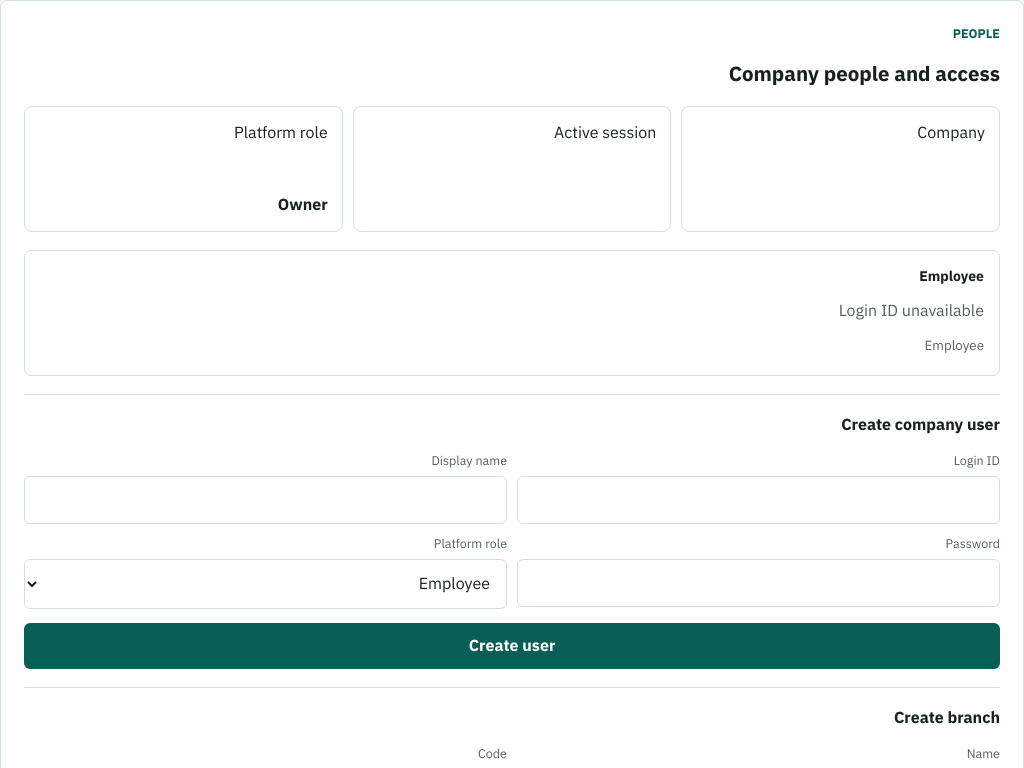
Test: Create user distinguishes write outcome from refresh (write_failed)
Type "Example-2026!" into the field labelled "Login ID" at (758, 500), box [517,476,1000,524]
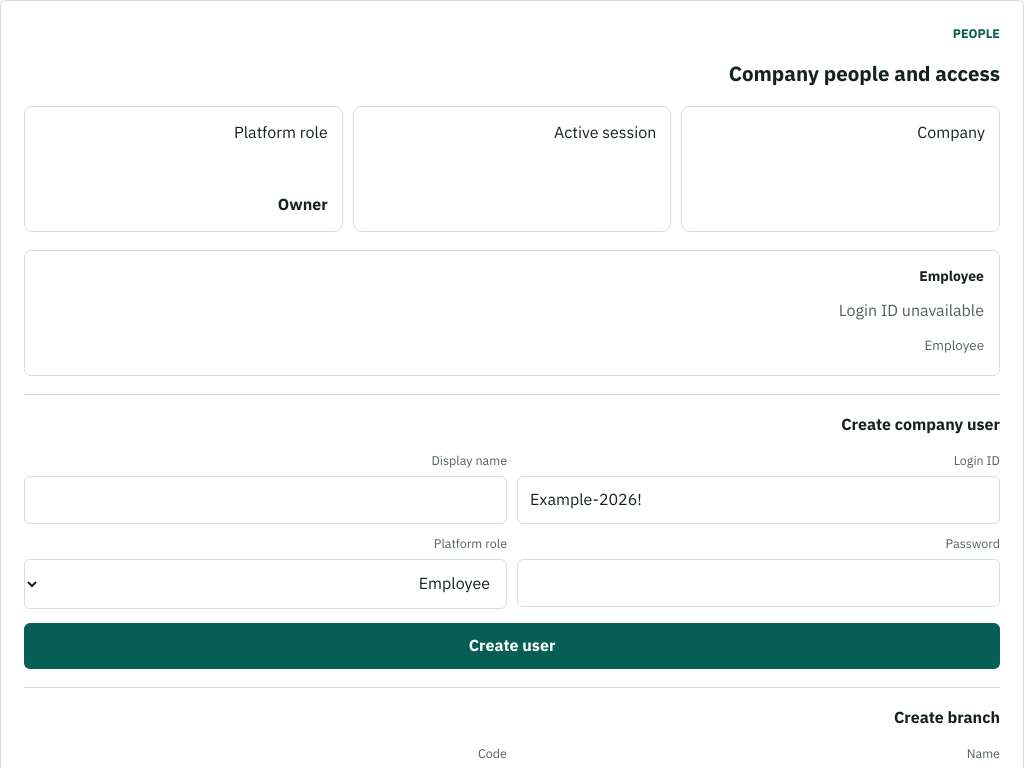
Type "Example-2026!" into the field labelled "Display name" at (266, 500), box [24,476,507,524]
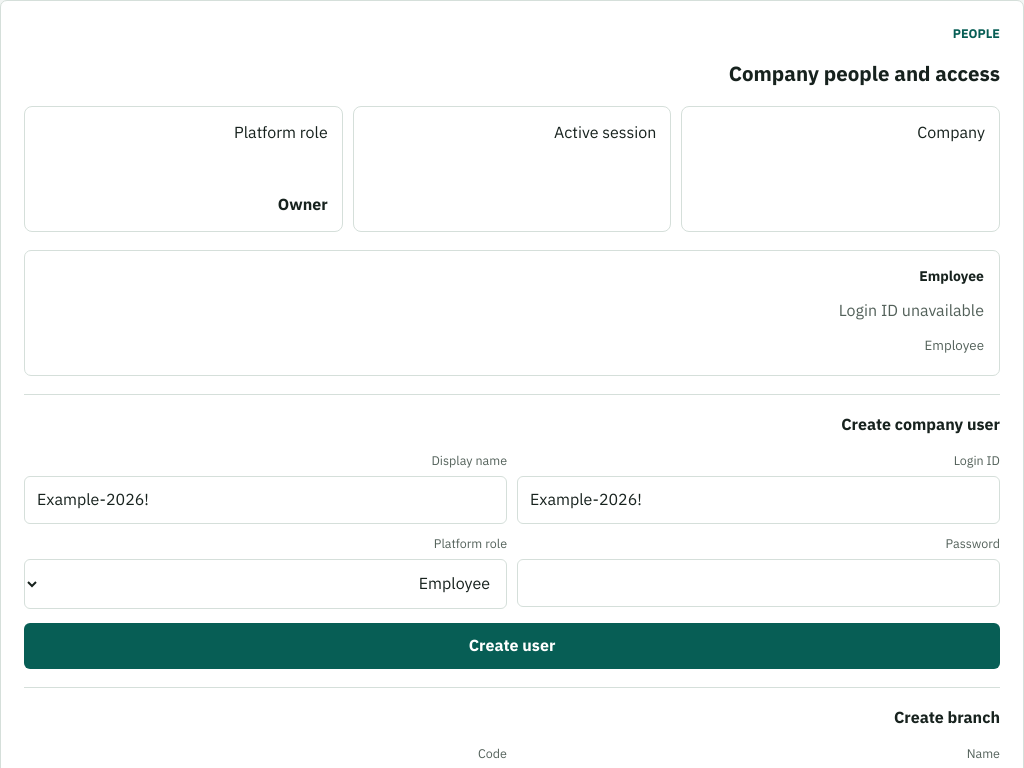
Type "Example-2026!" into the password field labelled "Password" at (758, 583), box [517,559,1000,607]
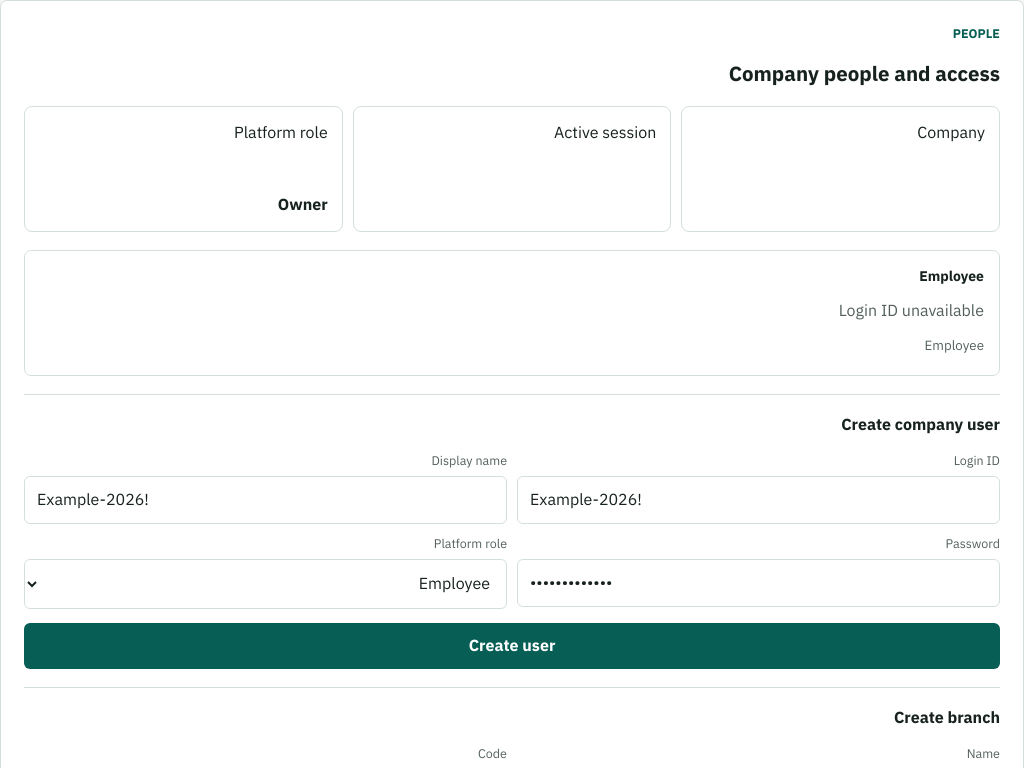
Click the button "Create user" at (512, 646), box [24,623,1000,669]
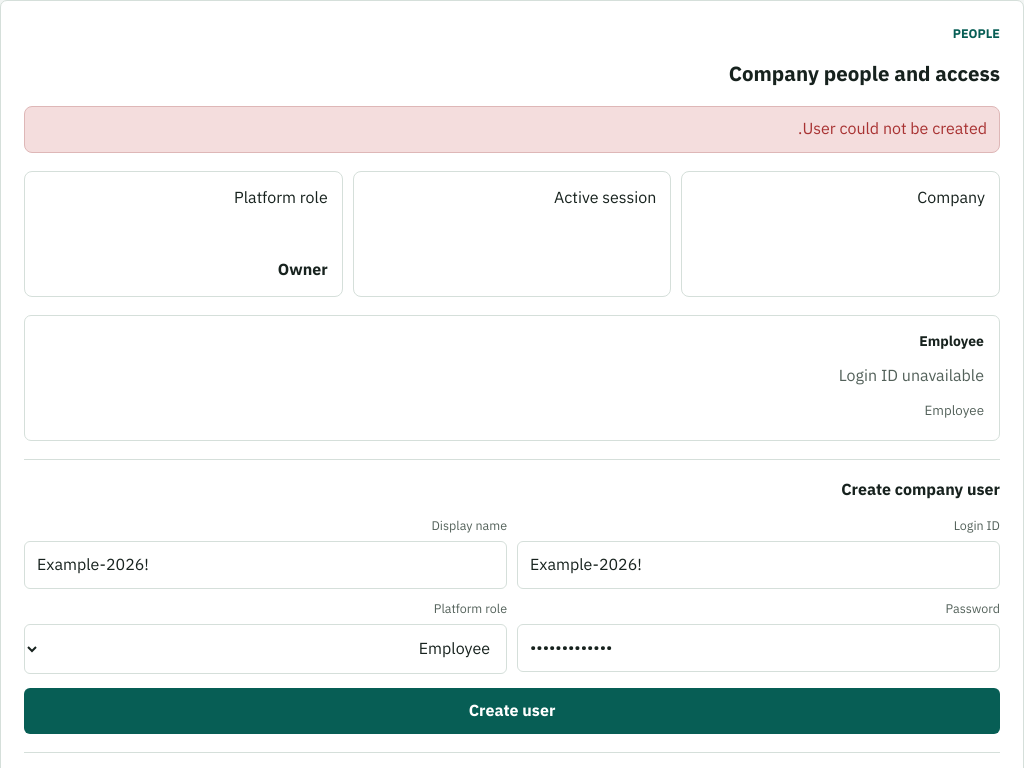
Expected: the button "Create user" is enabled, [24,688,1000,734]
Expected: the text "User could not be created." is shown, [24,106,1000,153]
